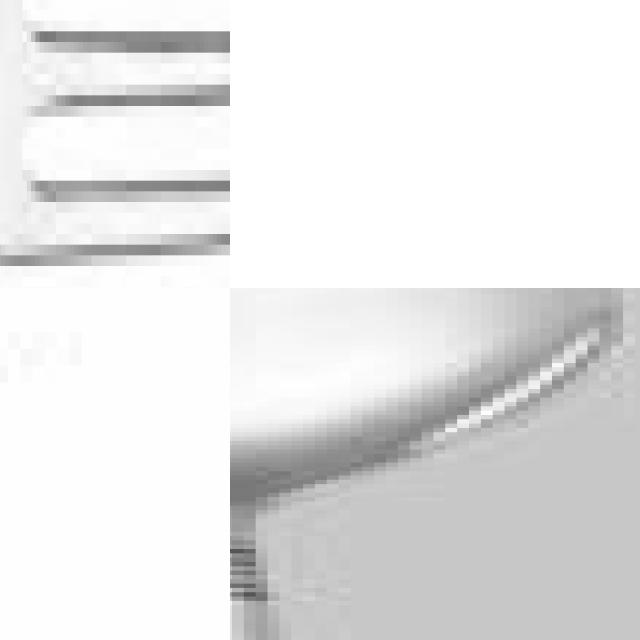forks: (0, 0, 230, 288), (0, 324, 110, 640)
